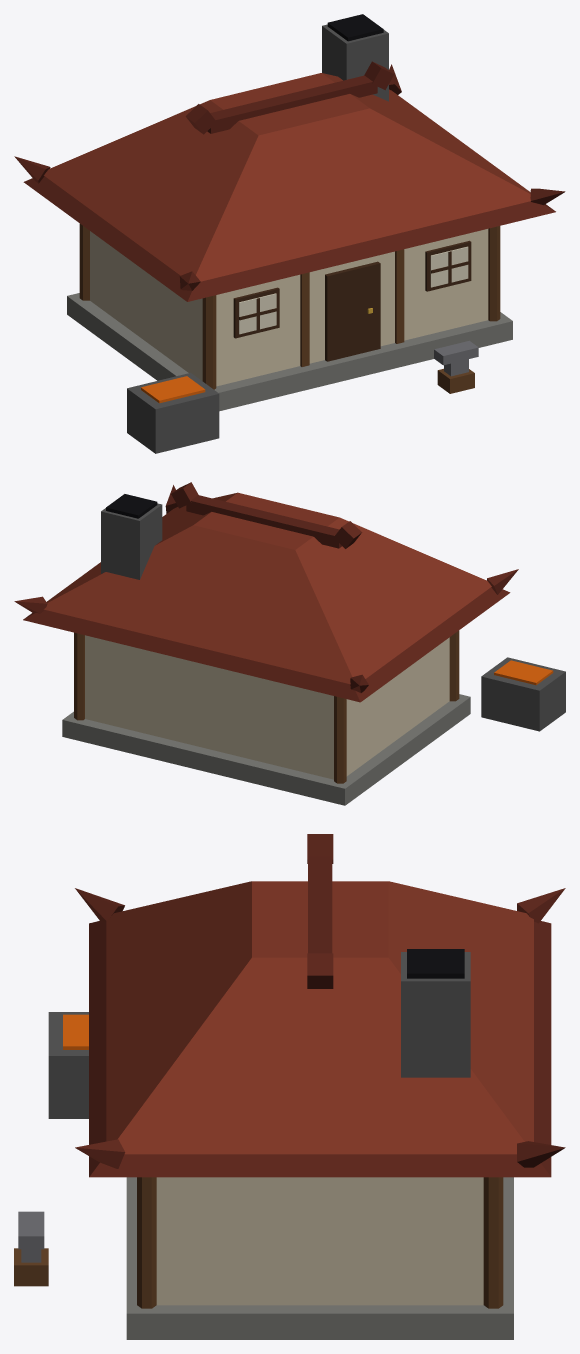
Rendered from SM_GZ_blacksmith_ember.fbx.
The picture shows the model from 3 angles, top to bottom: view 1: azimuth 30°, elevation 25°; view 2: azimuth 150°, elevation 25°; view 3: azimuth 270°, elevation 25°; orthographic projection. The views are drawn at different scales.
Visible parts, largest first — view 1: SM_GZ_blacksmith_ember; view 2: SM_GZ_blacksmith_ember; view 3: SM_GZ_blacksmith_ember.
Boxes of the visible parts, x1=… form: SM_GZ_blacksmith_ember: x1=14, y1=14, x2=565, y2=453; SM_GZ_blacksmith_ember: x1=14, y1=482, x2=565, y2=805; SM_GZ_blacksmith_ember: x1=14, y1=834, x2=565, y2=1339.
Size of the model in its own units: 1182 by 660 by 955.
